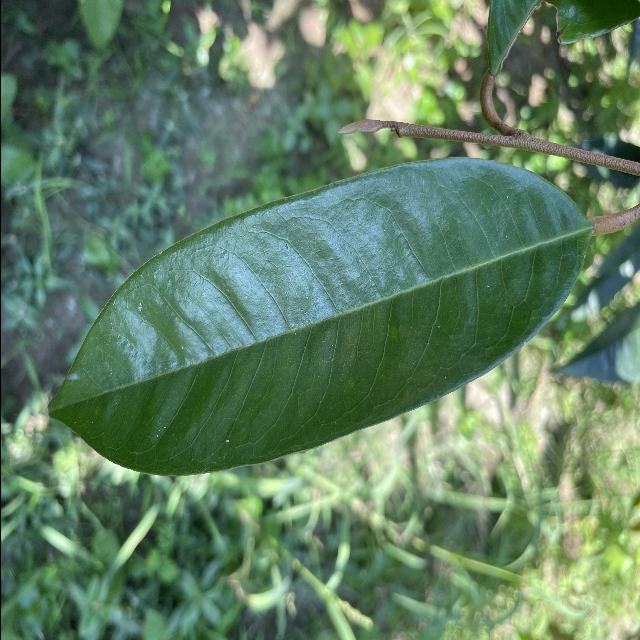No Disease: (39, 149, 599, 483)
